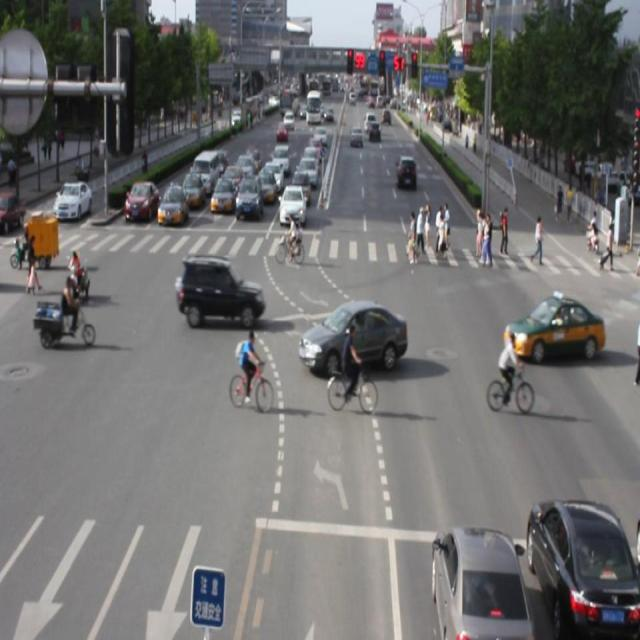car: (523, 495, 640, 640), (429, 524, 530, 640), (299, 300, 407, 376), (501, 291, 604, 364), (174, 255, 265, 329)
